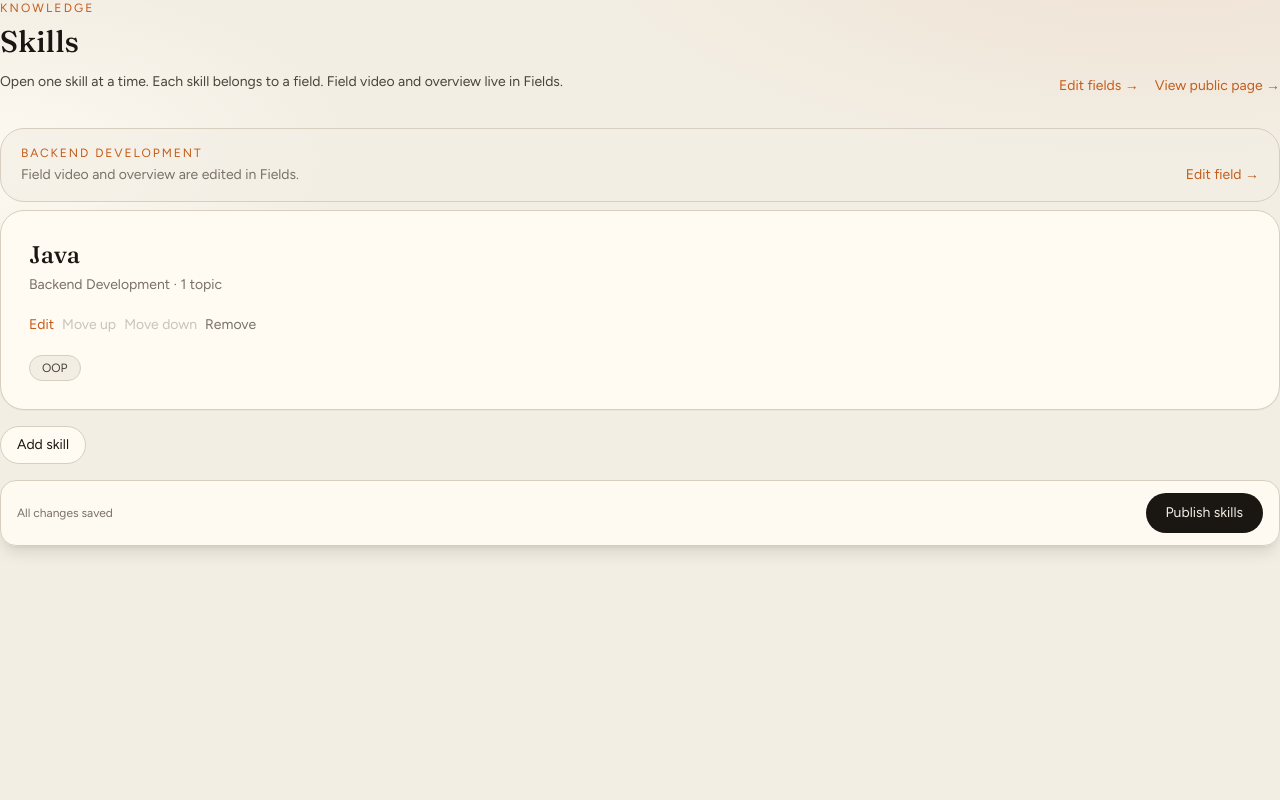
Scenario: AdminSkillsPage › blocks publish when a name is missing
Click the button "Edit": (42, 325) [29,315,54,335]
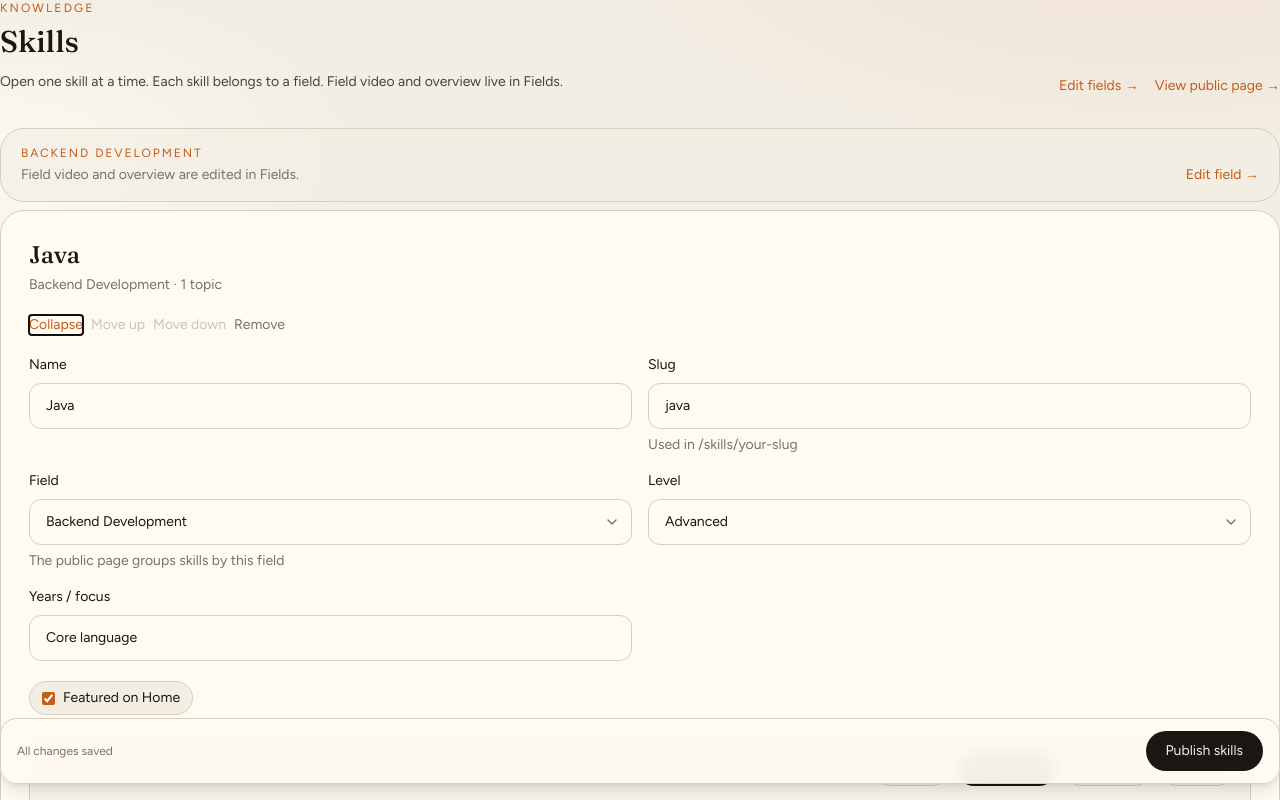
Now the field labelled "Name" is shown
Clear the field labelled "Name": (330, 406) [29,383,632,429]
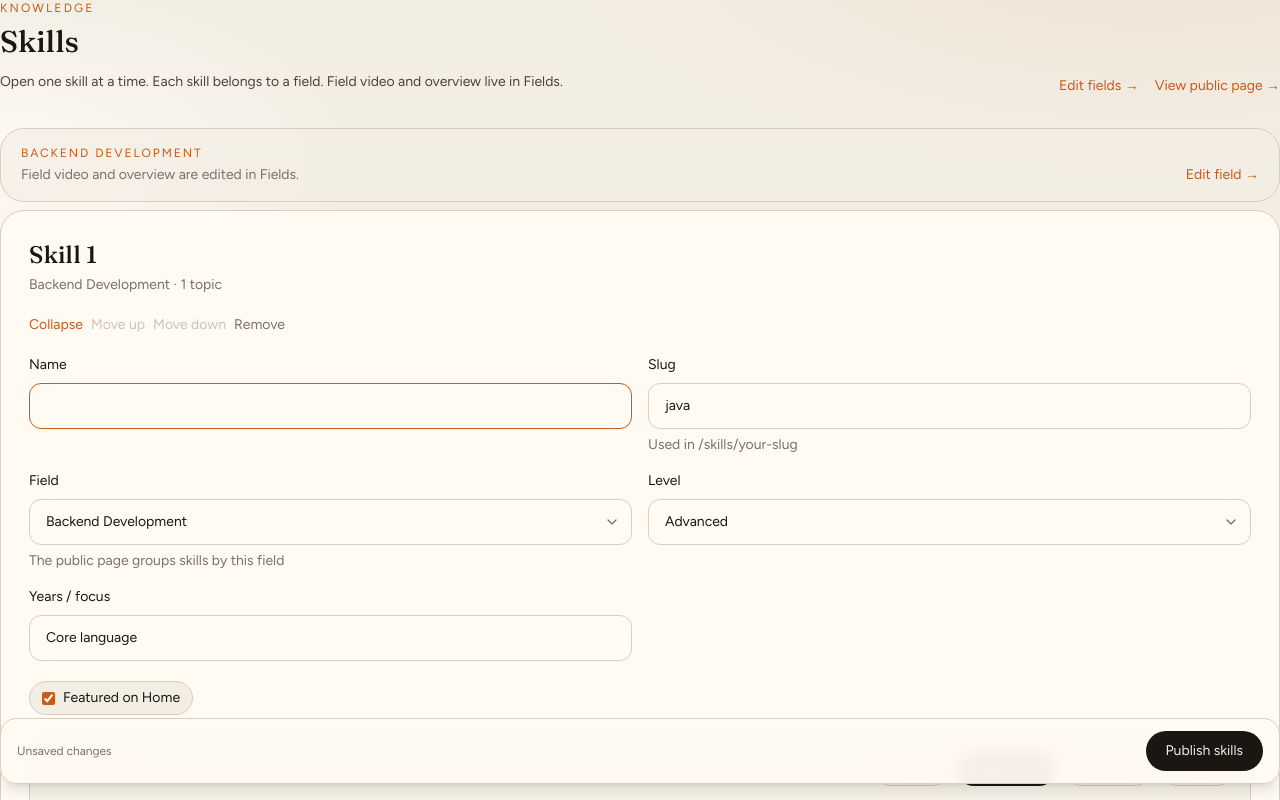
Click the button "Publish skills": (1204, 751) [1146,731,1263,771]
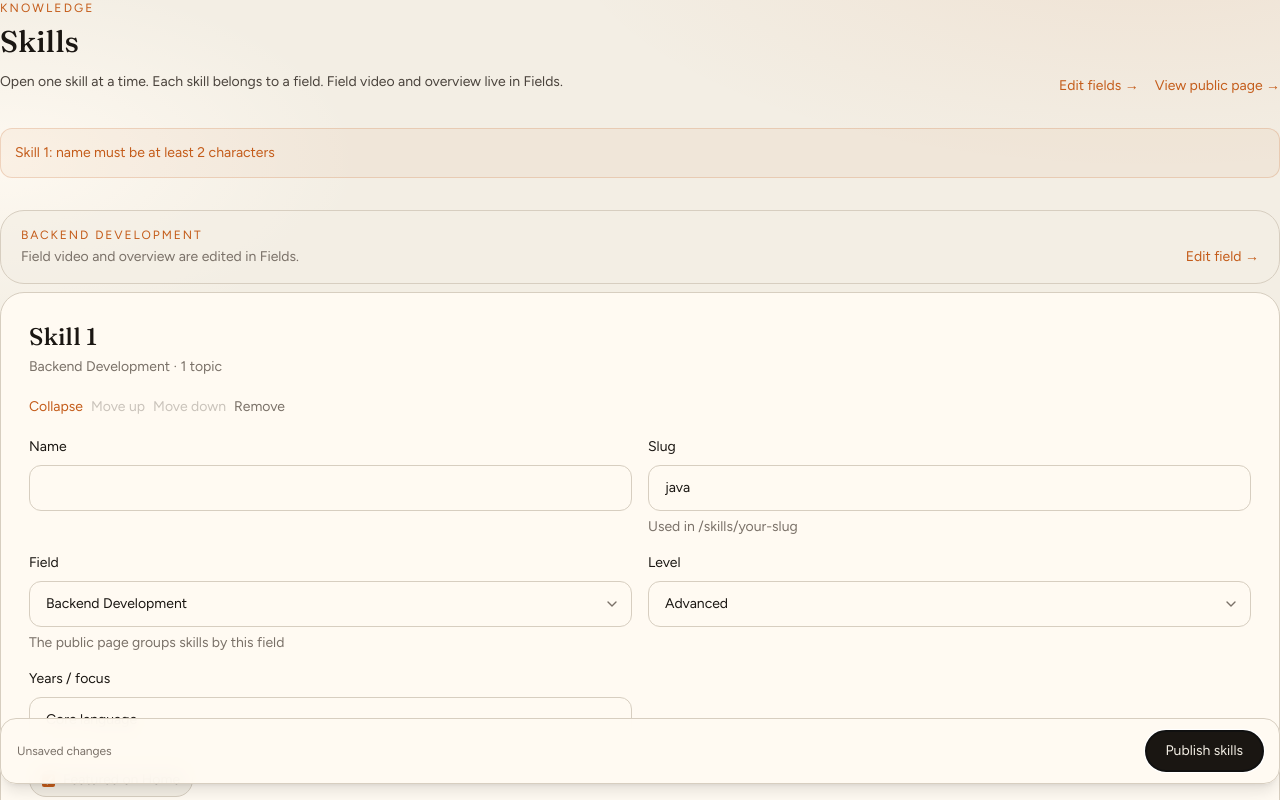
Now the message shows "name must be at least 2 characters", box [15,144,275,161]
